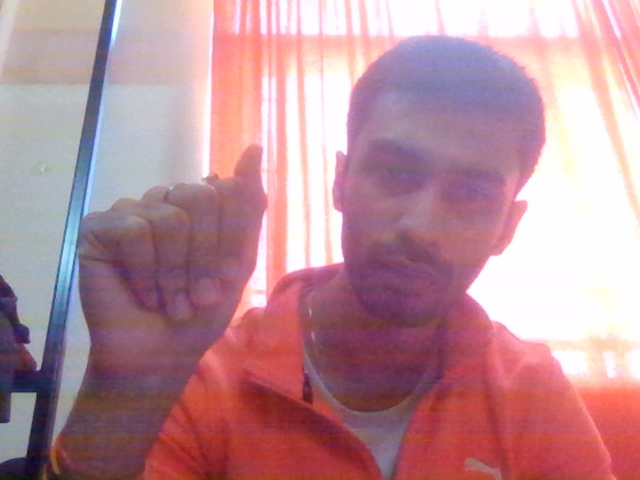A: (53, 124, 304, 428)
